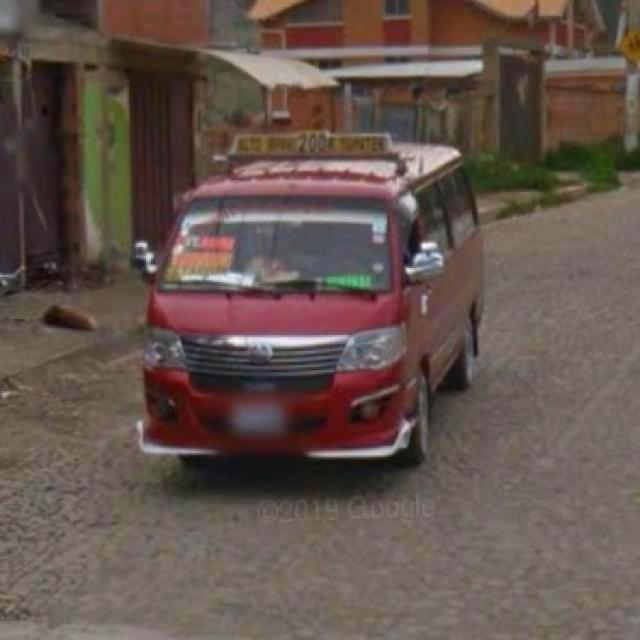Car: (122, 152, 494, 489)
